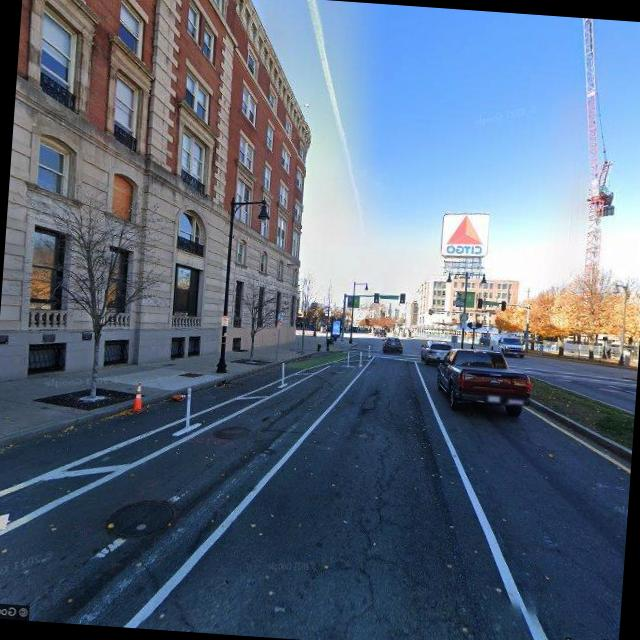pothole: (337, 387, 436, 640)
